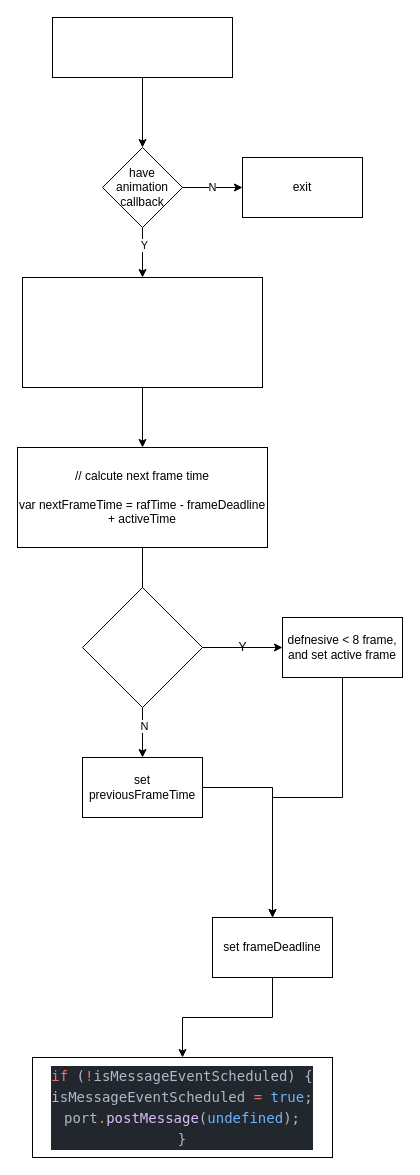
Some shapes in this 420 by 1175 pixel diagram are drawn without their labels. Here are the shapes that lost their labels. From the top down, the centre of each, then its label:
[142,47]: animationTick
[142,332]: requestAnimationFrame WithTimeout ( animationTick ) //for next frame call again
[142,647]: is low frame? prev and next all low frame
